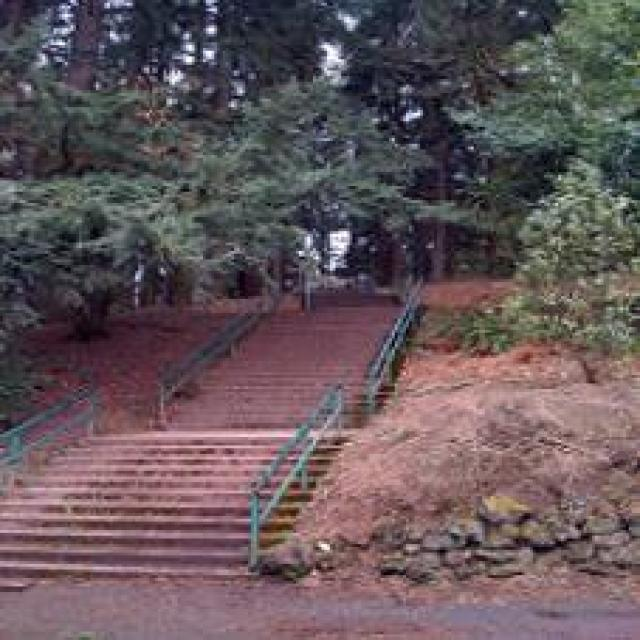upstair: (7, 399, 308, 585)
